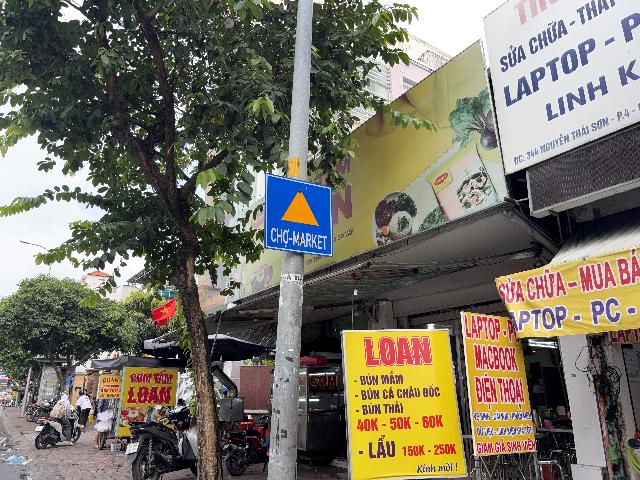khu-vuc-cho-phia-truoc: (264, 173, 334, 258)
